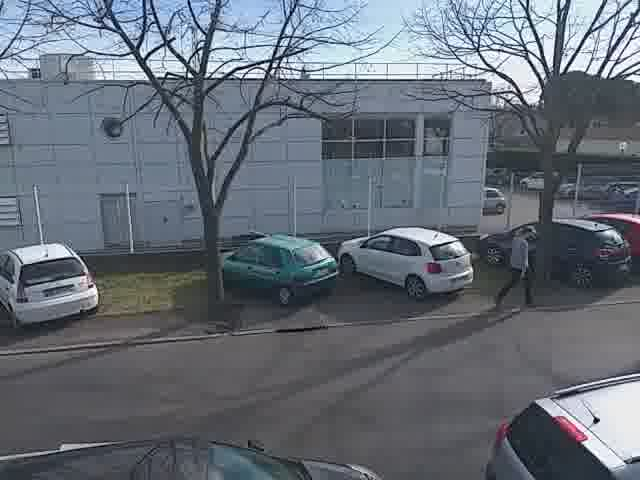persona: (494, 216, 541, 308)
